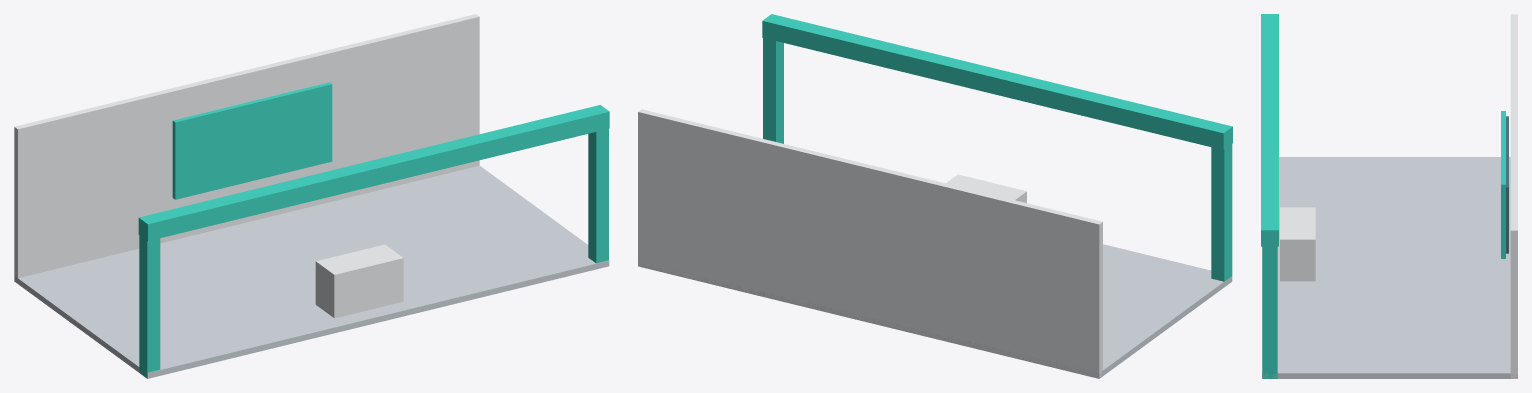
3 renders of one model, left to right at view 1: azimuth 30°, elevation 25°; view 2: azimuth 150°, elevation 25°; view 3: azimuth 270°, elevation 25°, orthographic. The views are drawn at different scales.
Visible parts, largest first — view 1: Exhibition Booth Concept; view 2: Exhibition Booth Concept; view 3: Exhibition Booth Concept.
Part boxes in pixels (bbox=[...]): Exhibition Booth Concept: bbox=[14, 14, 609, 378]; Exhibition Booth Concept: bbox=[638, 14, 1232, 378]; Exhibition Booth Concept: bbox=[1261, 14, 1517, 378].
Bounding box in the file's own units: 10 × 3.2 × 5.02.
